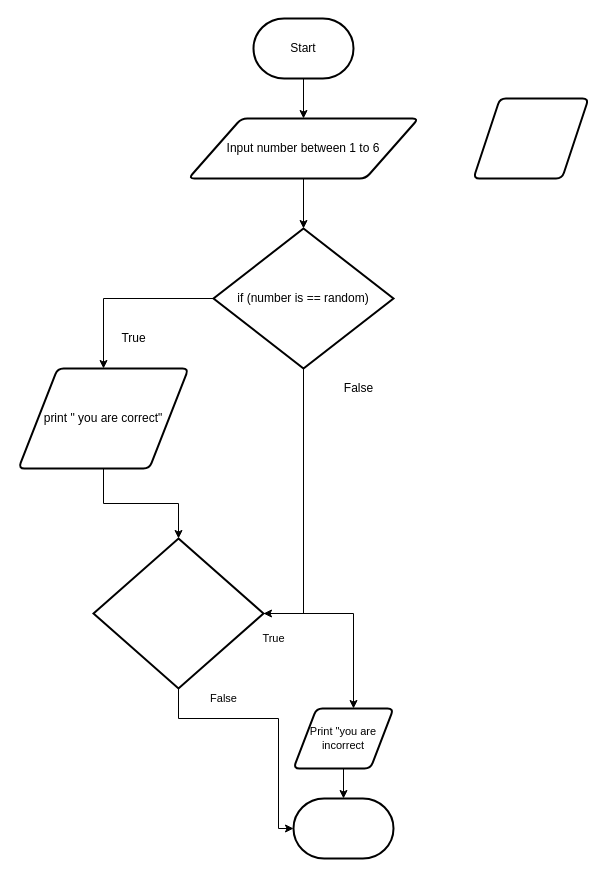
Image size: 606x876. Some labels were removed from this diagram. Each missing label, with the centre of its shape:
If ( number is != random: point (178, 613)
print " you are incorrect": point (530, 138)
Stop: point (343, 828)
